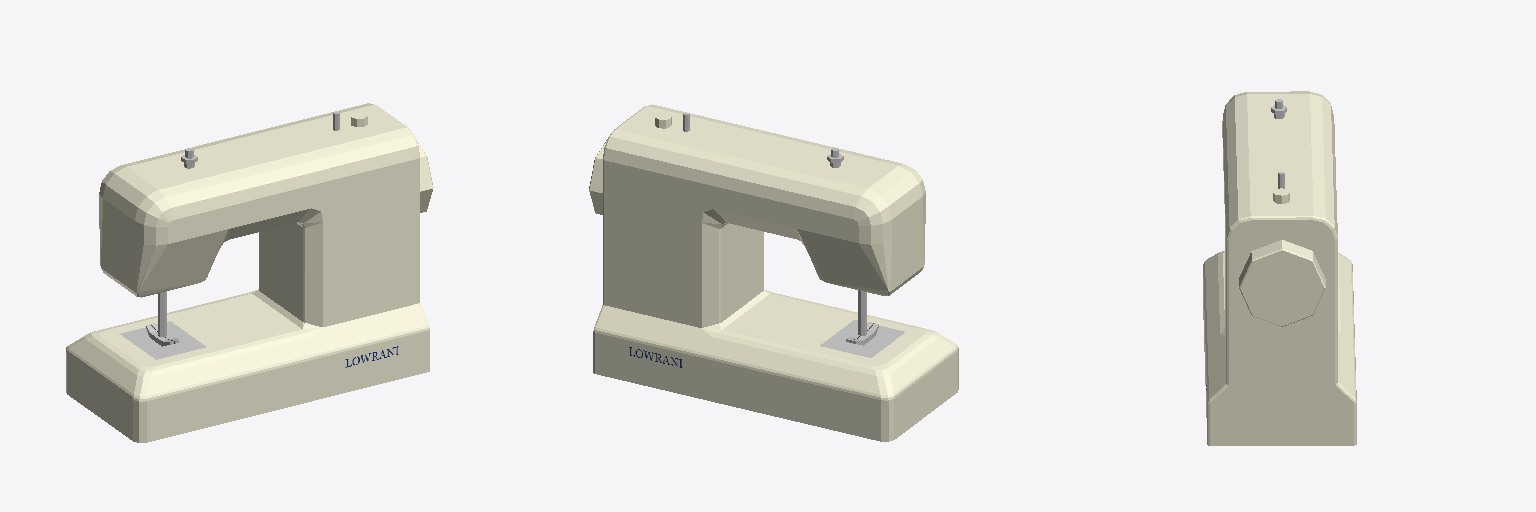
The picture shows the model from 3 angles: view 1: azimuth 30°, elevation 25°; view 2: azimuth 150°, elevation 25°; view 3: azimuth 270°, elevation 25°; orthographic projection.
Parts seen in each view (by area): view 1: pCube3_N��hmaschine_0; view 2: pCube3_N��hmaschine_0; view 3: pCube3_N��hmaschine_0.
Boxes of the visible parts, <box> form: pCube3_N��hmaschine_0: <box>66,103,433,442</box>; pCube3_N��hmaschine_0: <box>589,104,958,441</box>; pCube3_N��hmaschine_0: <box>1203,91,1356,445</box>.
Bounding box in the file's own units: 2.95 × 2.2 × 1.25.
Materials: 1 (1 with a texture image).